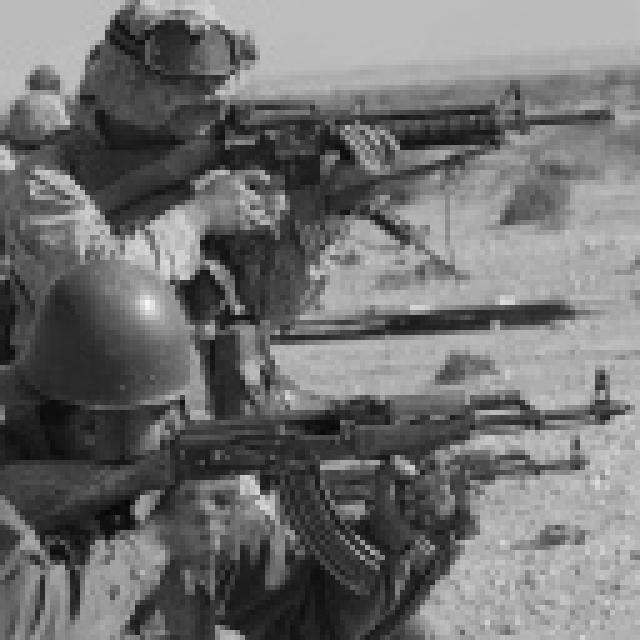Rifle: (38, 70, 626, 294), (117, 368, 640, 592), (280, 422, 600, 560)
